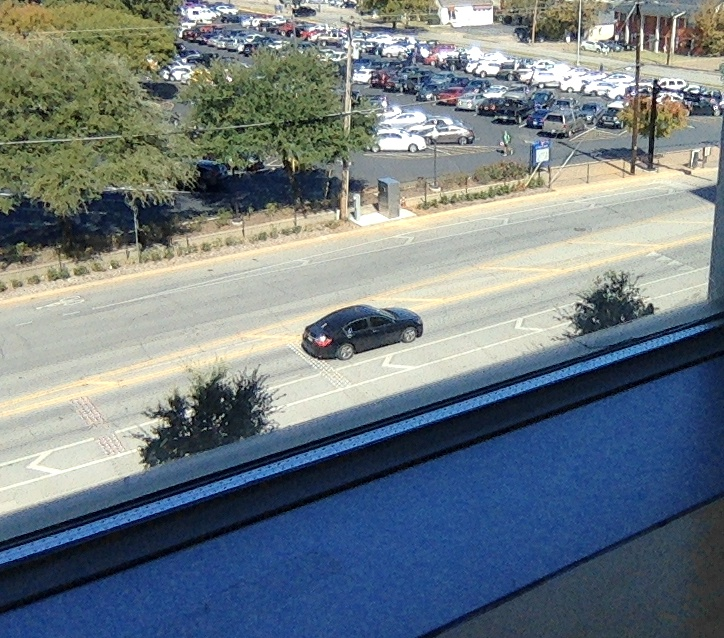car: (300, 300, 424, 363)
